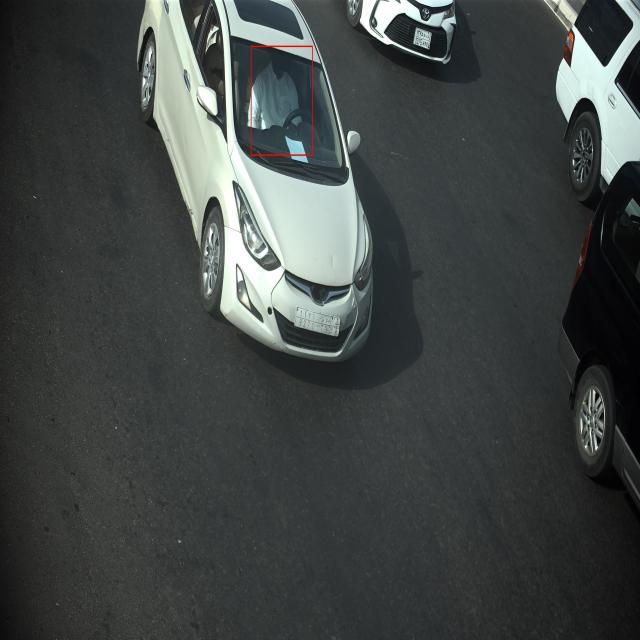windshield: (226, 30, 351, 190)
